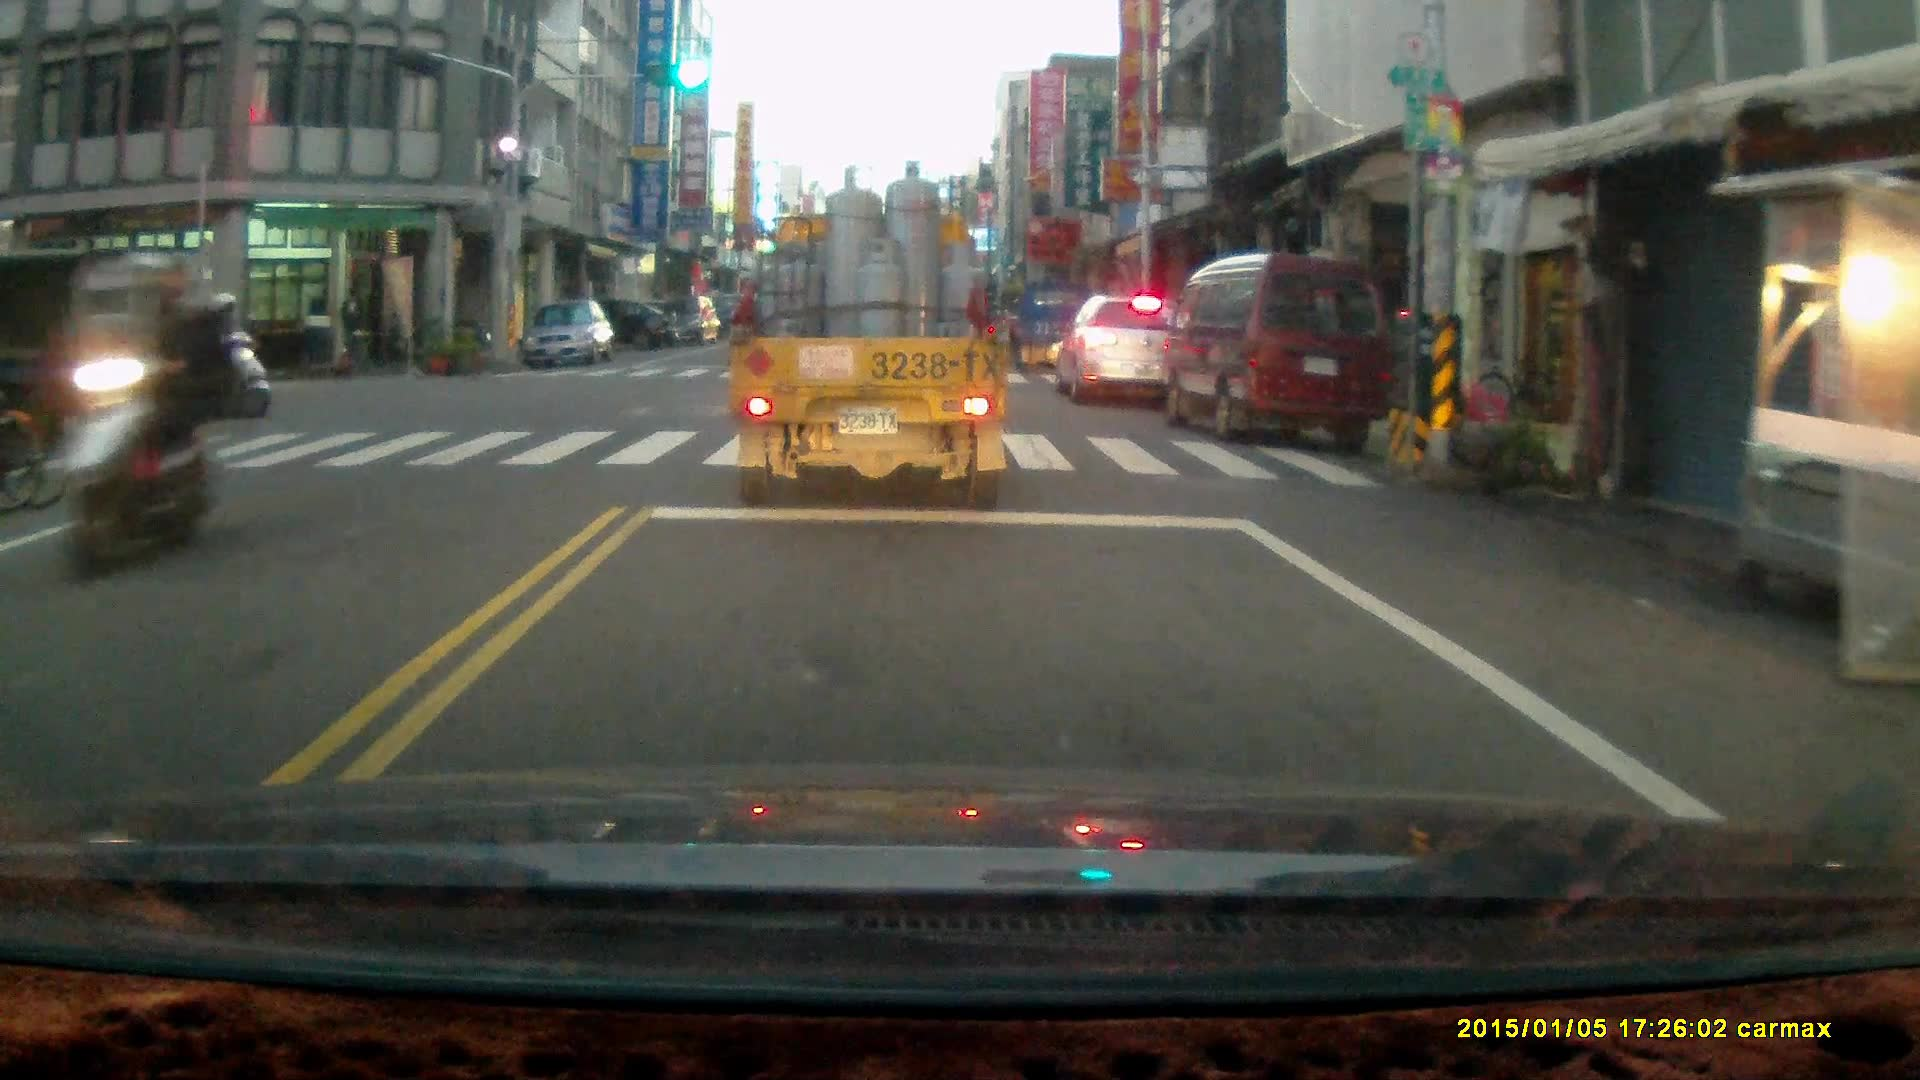pedestrian: (336, 281, 370, 375)
rider: (48, 244, 220, 581), (162, 287, 270, 417)
vehicle: (732, 165, 1015, 511), (1165, 252, 1399, 449), (1, 247, 167, 433), (1049, 289, 1201, 413), (1008, 280, 1100, 379), (551, 298, 679, 358), (522, 298, 619, 370), (639, 294, 720, 345)
